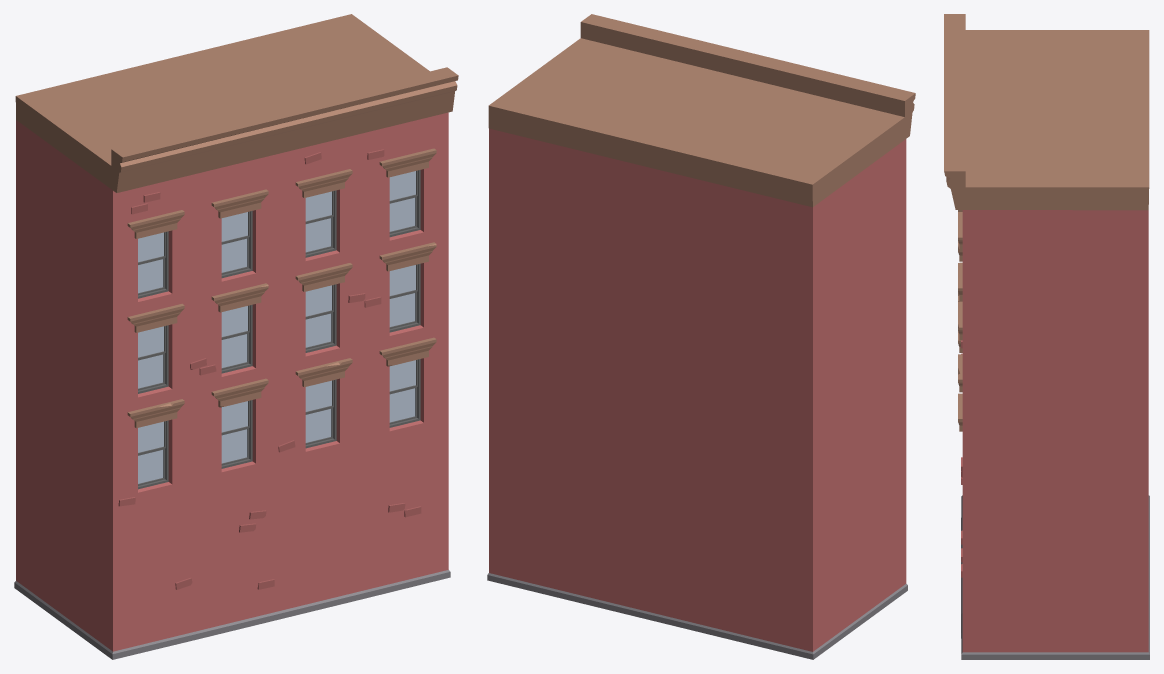
File: rb-blank.glb
3 views of the same model, side by side, from view 1: azimuth 30°, elevation 25°; view 2: azimuth 150°, elevation 25°; view 3: azimuth 270°, elevation 25° (orthographic). The views are drawn at different scales.
Parts seen in each view (by area): view 1: RBBlank; view 2: RBBlank; view 3: RBBlank.
Boxes of the visible parts, x1,y1,x2,y2 form: RBBlank: (14, 14, 458, 659); RBBlank: (487, 14, 915, 659); RBBlank: (944, 14, 1149, 659).
Size of the model in its own units: 2.42 by 3.48 by 1.33.
1 material, 1 textured.
